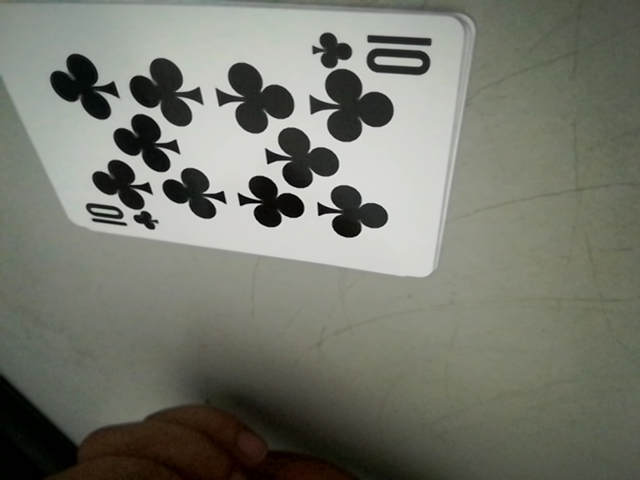mh 10: (312, 23, 444, 75), (77, 203, 162, 236)
